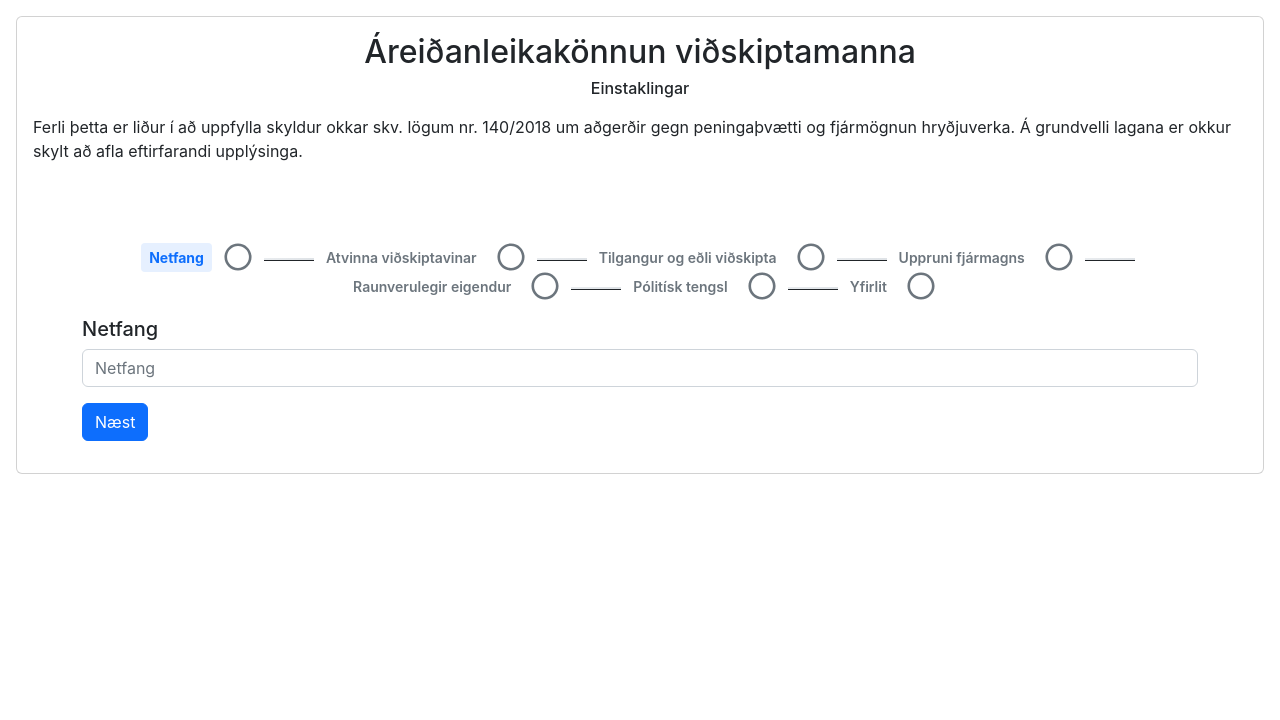
Scenario: Click on steps and check the form › should produce the correct form when step three is clicked
Click the element with id "step-2" at (811, 257), box 797,243 -> 825,271
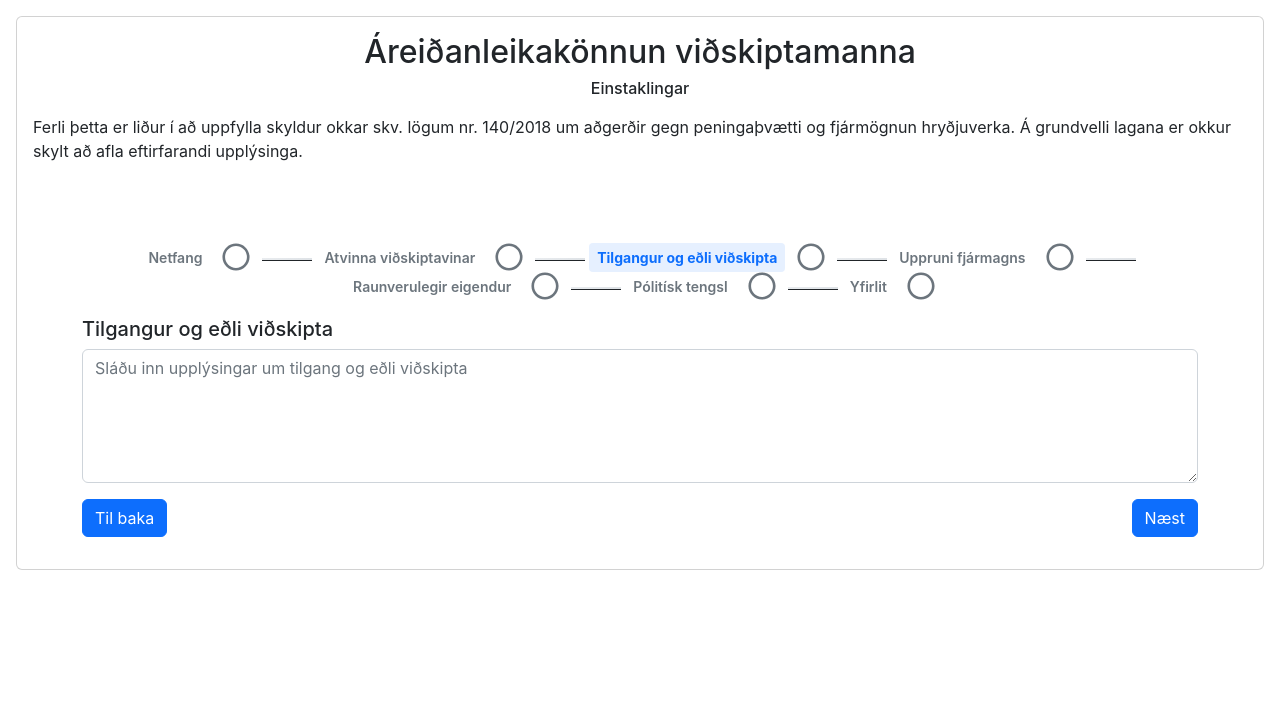
Expected: the text box with placeholder "Sláðu inn upplýsingar um tilgang og eðli viðskipta" is shown, 82,349 -> 1198,483
